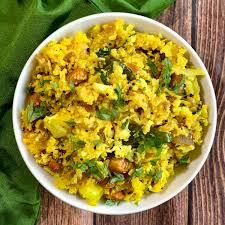poha: (17, 18, 210, 203)
